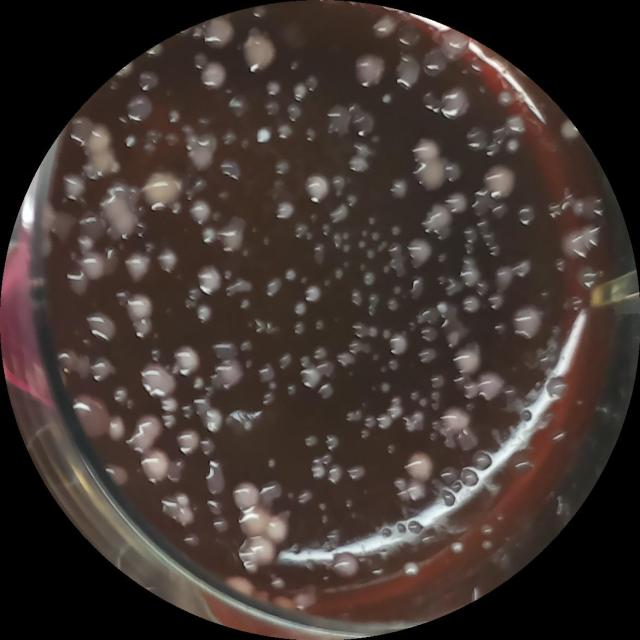Bacillus: (140, 168, 182, 212), (238, 30, 278, 74), (236, 534, 277, 575), (482, 161, 519, 203), (350, 51, 387, 89), (413, 157, 448, 194), (402, 450, 434, 482)
